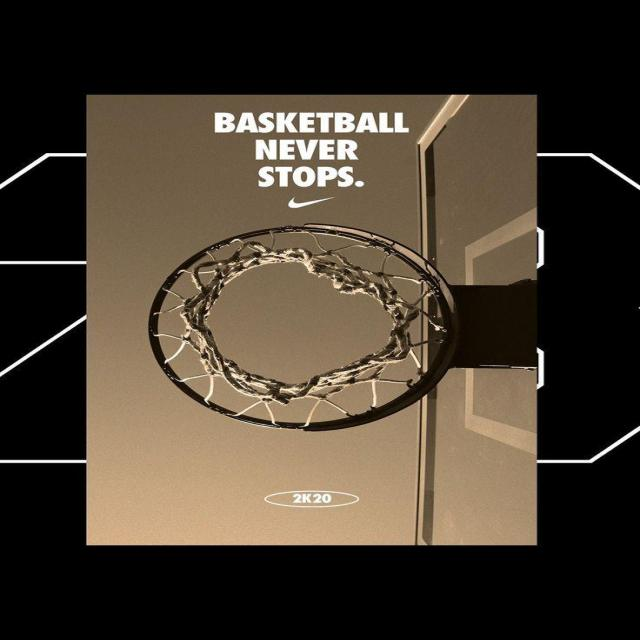hoop: (181, 189, 487, 446)
